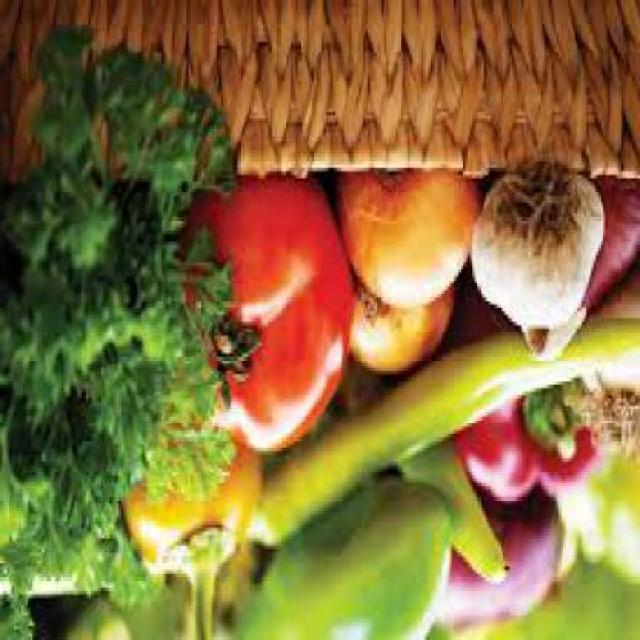BIODEGRADABLE: (2, 31, 240, 638), (250, 304, 638, 550), (176, 178, 361, 458), (228, 486, 460, 639), (460, 454, 638, 638), (123, 440, 265, 638), (472, 179, 610, 363), (438, 472, 565, 632), (339, 175, 478, 308), (458, 405, 608, 501), (400, 451, 508, 584), (354, 283, 455, 385), (563, 177, 639, 312), (56, 577, 216, 638)
